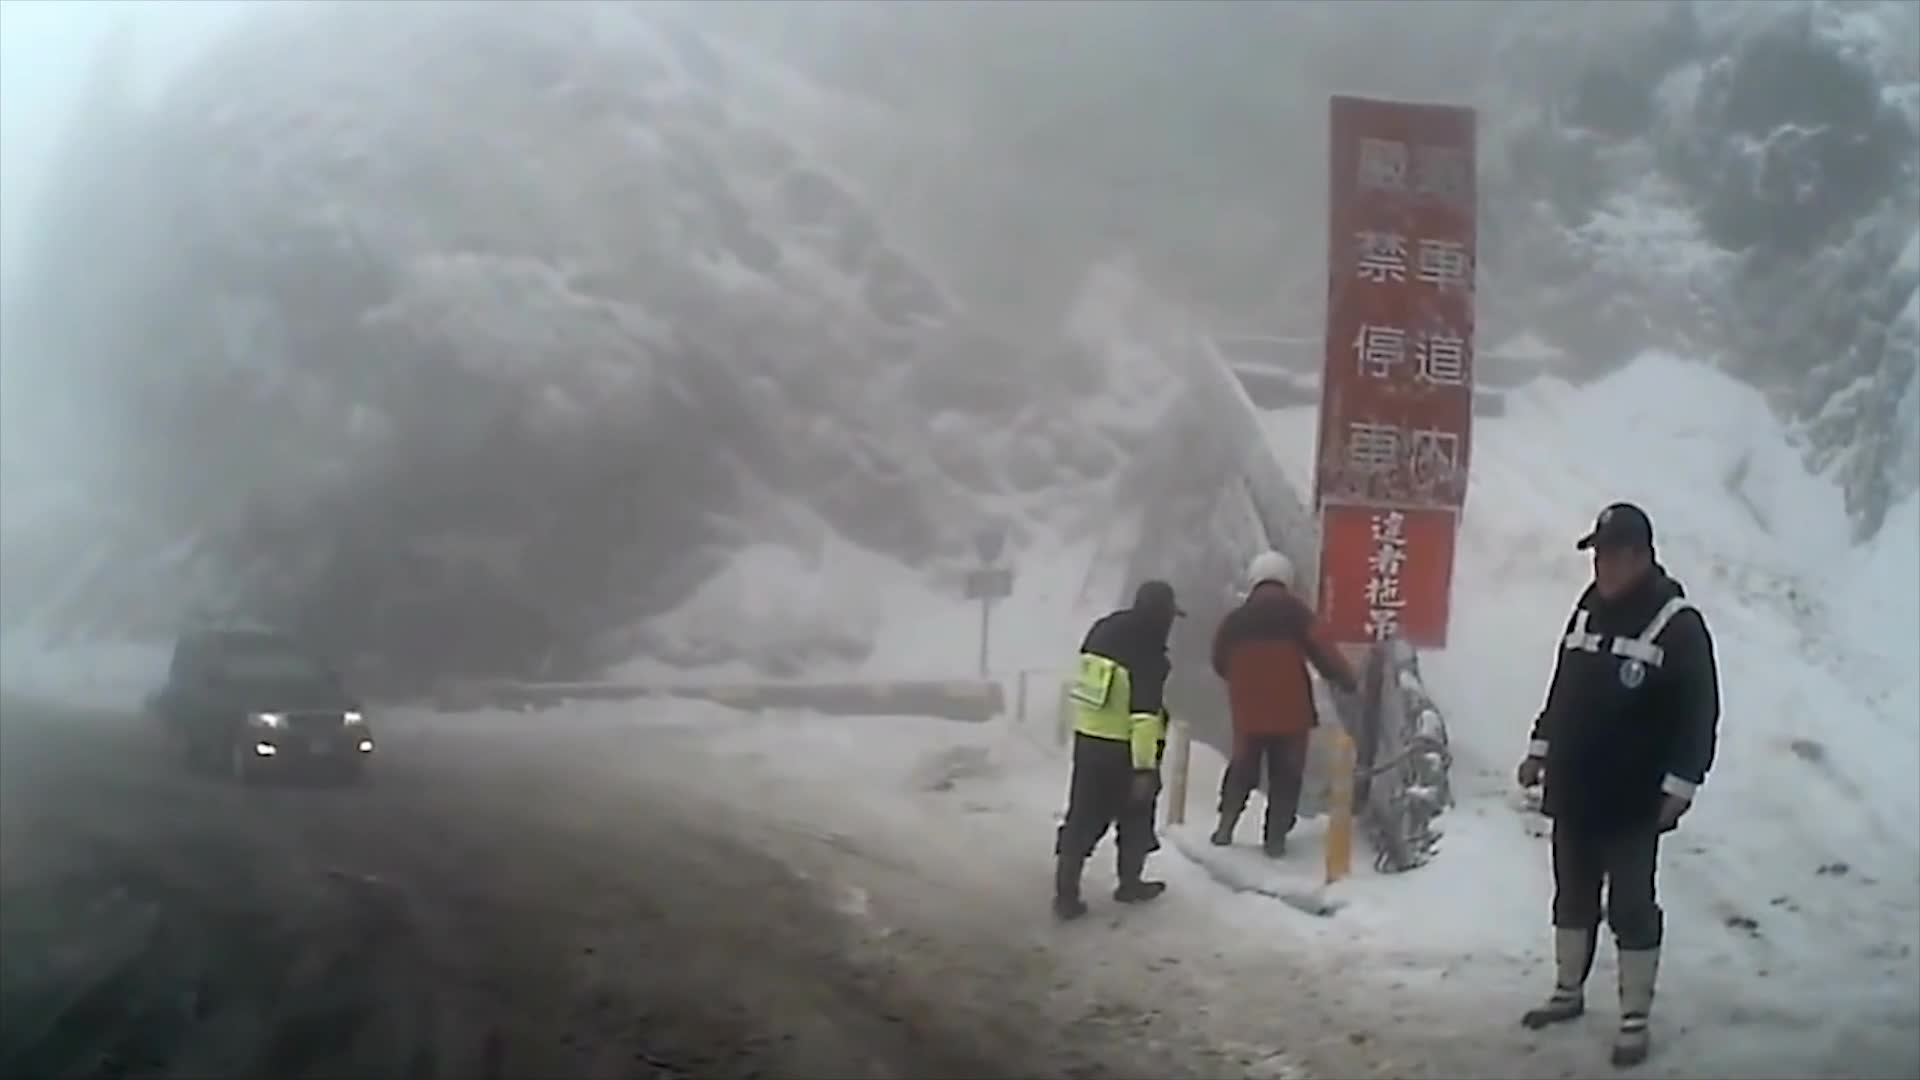pedestrian: (1514, 500, 1725, 1071), (1052, 580, 1181, 917), (1214, 550, 1341, 856)
vehicle: (161, 628, 373, 791)
